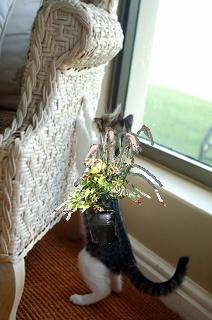tampered: (51, 126, 166, 244)
